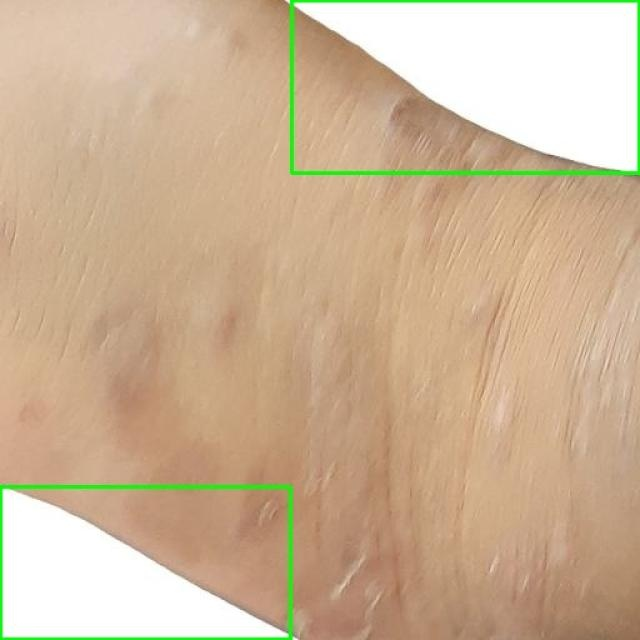Eczema: (291, 0, 639, 172), (0, 486, 291, 639)
